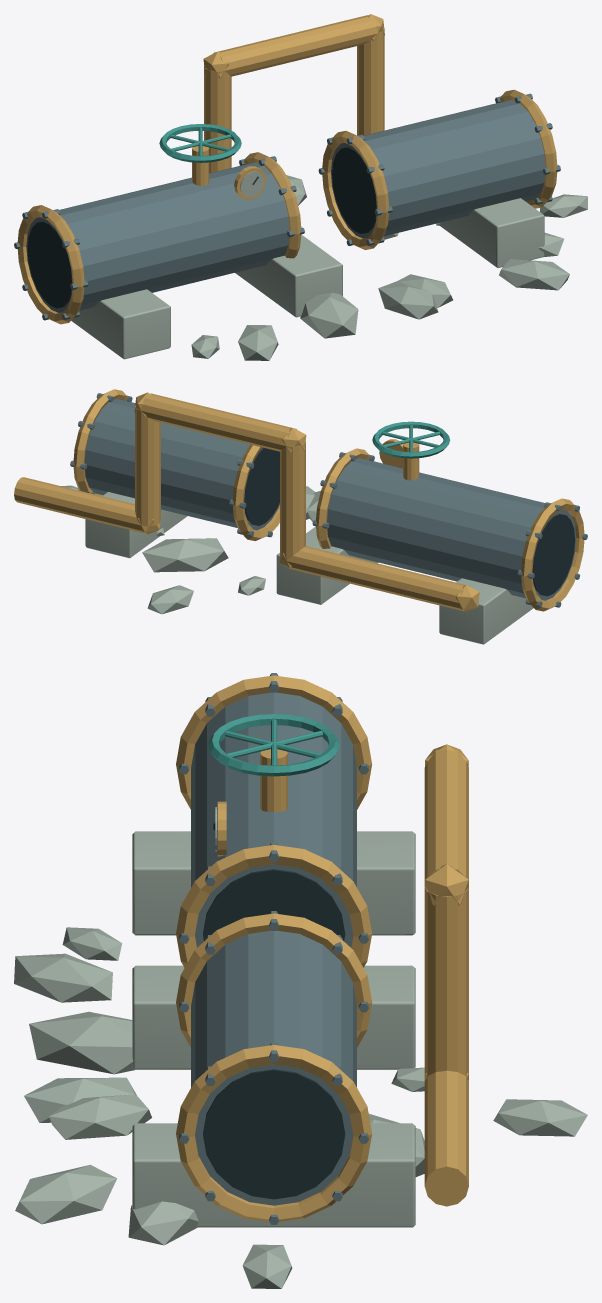
The model's file is world-pipeline.glb.
3 views of the same model, one above another, from view 1: azimuth 30°, elevation 25°; view 2: azimuth 150°, elevation 25°; view 3: azimuth 270°, elevation 25° (orthographic). The views are drawn at different scales.
Parts seen in each view (by area): view 1: world-pipeline / Abyssal iron, world-pipeline / Drowned limestone, world-pipeline / Weathered maritime brass, world-pipeline / Deep insets, world-pipeline / Copper verdigris; view 2: world-pipeline / Abyssal iron, world-pipeline / Weathered maritime brass, world-pipeline / Drowned limestone, world-pipeline / Deep insets, world-pipeline / Copper verdigris; view 3: world-pipeline / Drowned limestone, world-pipeline / Weathered maritime brass, world-pipeline / Abyssal iron, world-pipeline / Deep insets, world-pipeline / Copper verdigris.
Boxes of the visible parts, box(x1,y1,x2,y2) form: world-pipeline / Abyssal iron: box(14, 93, 560, 320); world-pipeline / Drowned limestone: box(71, 171, 587, 360); world-pipeline / Weathered maritime brass: box(17, 14, 557, 324); world-pipeline / Deep insets: box(27, 147, 376, 308); world-pipeline / Copper verdigris: box(159, 124, 241, 162); world-pipeline / Abyssal iron: box(70, 393, 587, 607); world-pipeline / Weathered maritime brass: box(14, 389, 584, 611); world-pipeline / Drowned limestone: box(61, 485, 533, 644); world-pipeline / Deep insets: box(244, 447, 575, 596); world-pipeline / Copper verdigris: box(372, 421, 450, 458); world-pipeline / Drowned limestone: box(14, 807, 587, 1288); world-pipeline / Weathered maritime brass: box(176, 675, 468, 1221); world-pipeline / Abyssal iron: box(179, 673, 368, 1224); world-pipeline / Deep insets: box(203, 821, 345, 1199); world-pipeline / Copper verdigris: box(208, 714, 339, 776).
Size of the model in its own units: 14.5 by 5.15 by 8.31.
